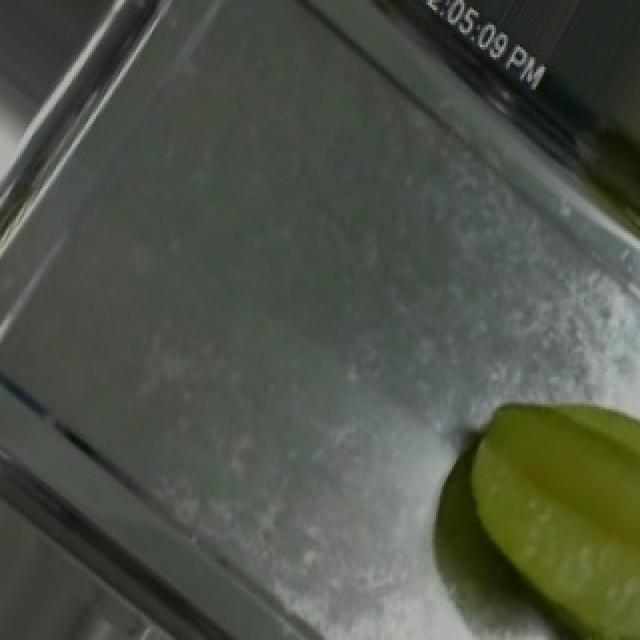fruit: (412, 359, 640, 640)
